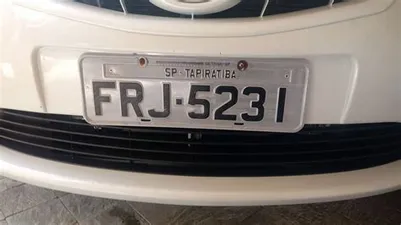number_plate: (56, 48, 326, 133)
